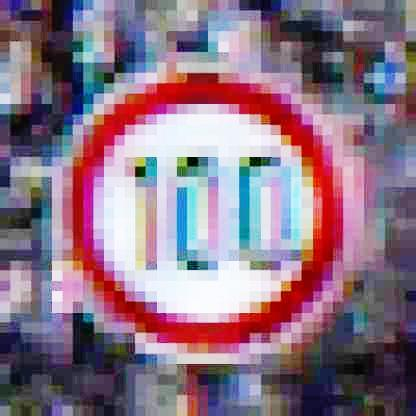Speed Limit -100-: (59, 66, 362, 362)
